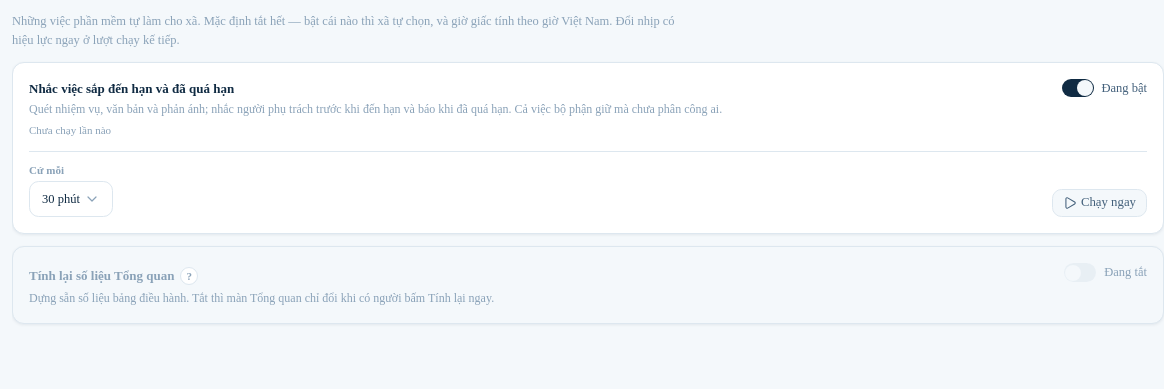
Tự động hoá — the switch saves at once (spec 09) › 'Lưu nhịp' appears on change; a refusal is shown in place and the saved cadence comes back
The image size is (1164, 389).
expect the text "Lưu nhịp" is not shown: met
Select "30 phút" in the dropdown with id "tu-dong-hoa-sla_reminders-nhip": (71, 199) [29, 181, 113, 217]
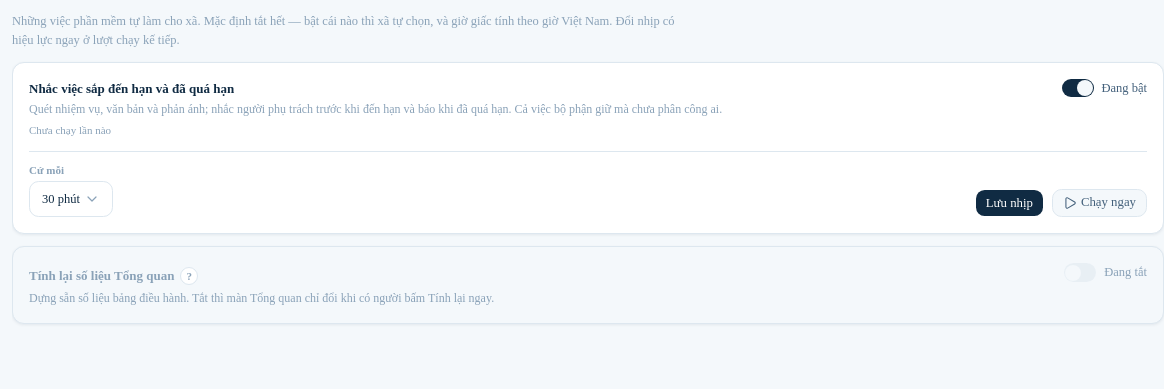
expect the button "Lưu nhịp" is shown: met
Click the button "Lưu nhịp": click(1009, 203) [975, 189, 1044, 217]
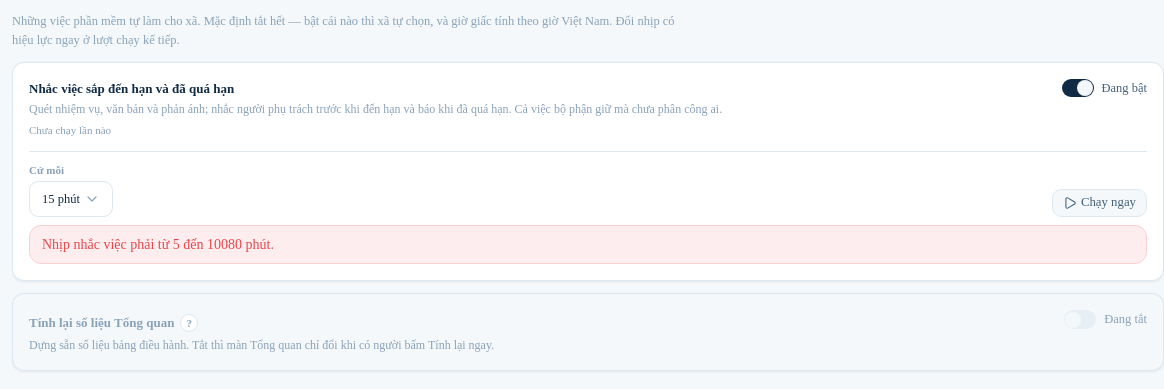
expect the message "Nhịp nhắc việc phải từ 5 đến 10080 phút." is shown: met, box [29, 225, 1147, 264]
expect the text "Lưu nhịp" is gone: met
